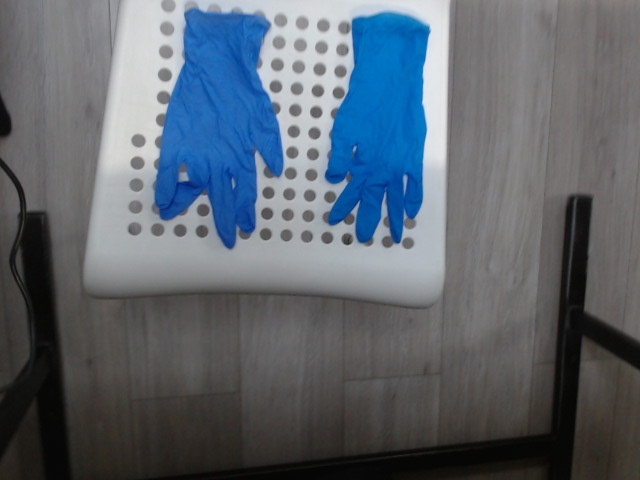medical_glove: (155, 10, 285, 247), (328, 14, 432, 240)
